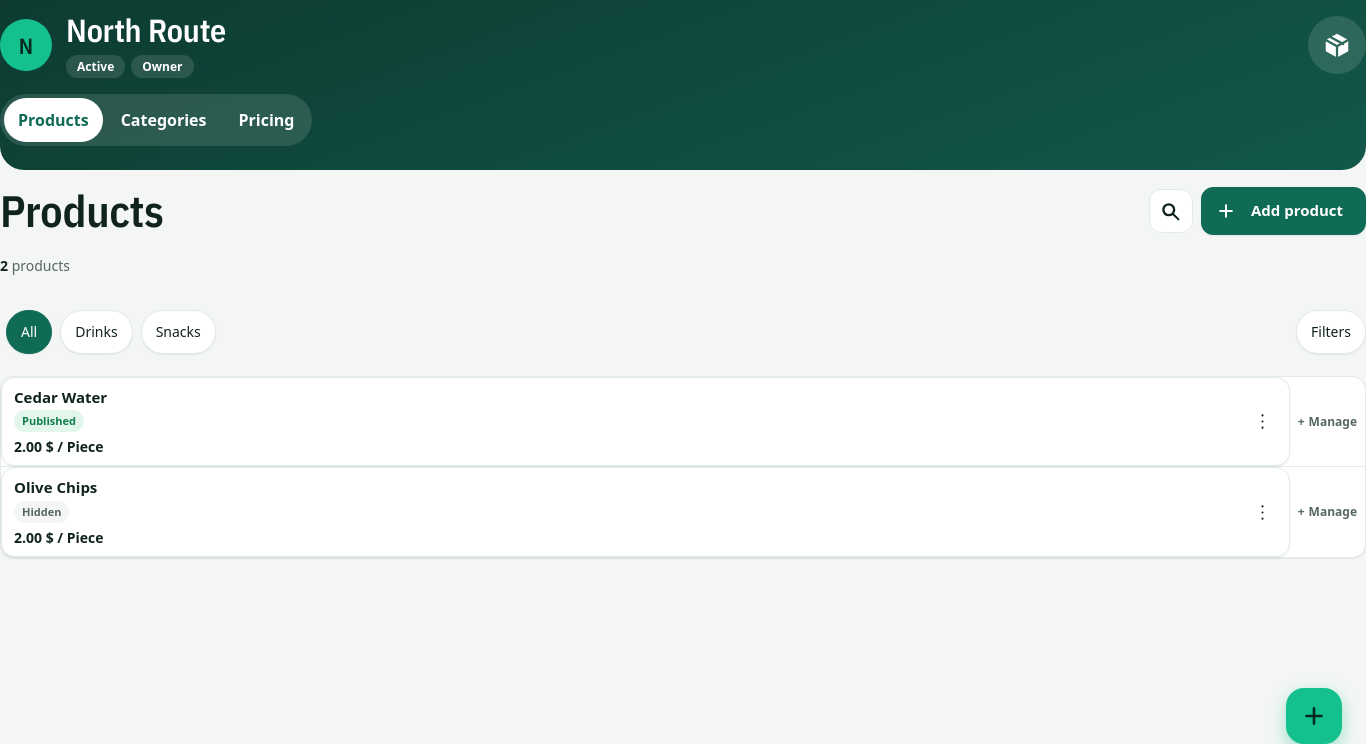
row tap and menu Edit open the chosen product's pane and Back returns focus
Expected: the text "Cedar Water" is shown, [14,387,107,407]
Click the button "Olive Chips Hidden 2.00 $ / Piece". click: (56,487)
box: [2,468,1241,556]
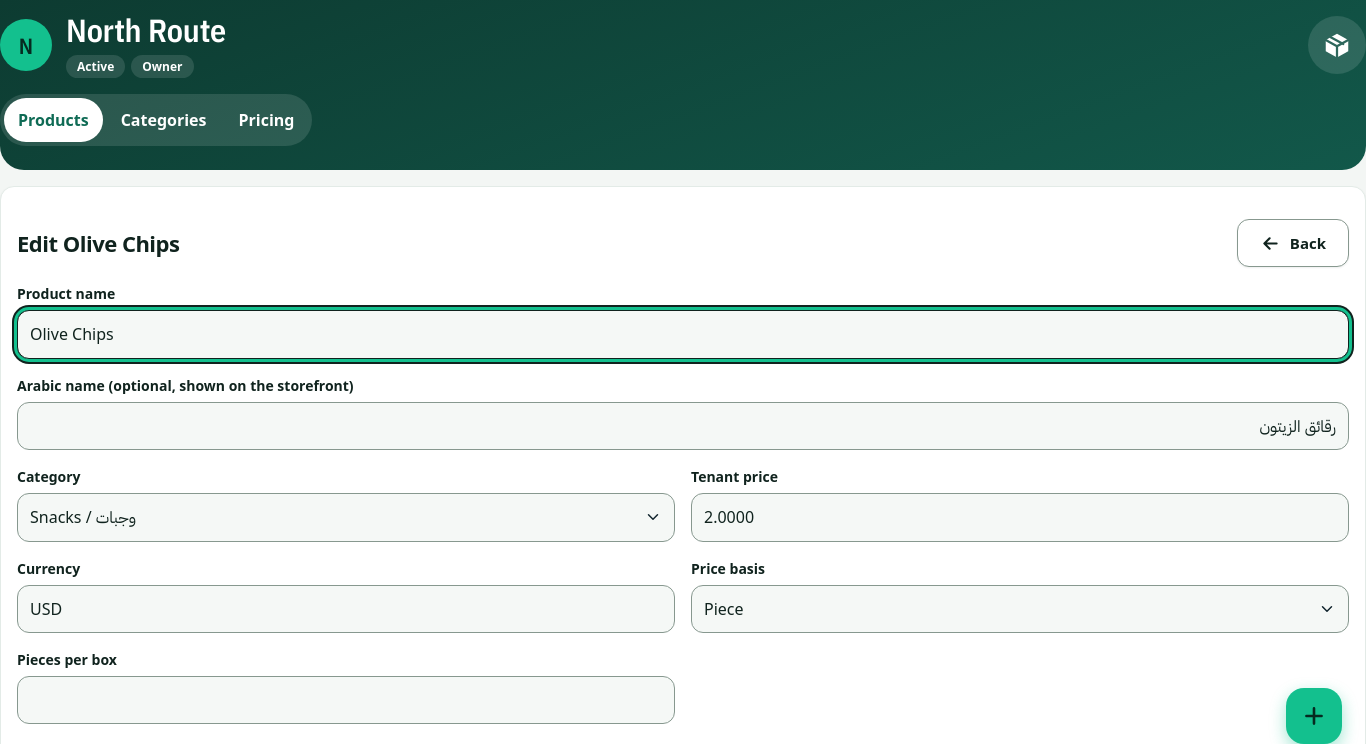
Expected: the field labelled "Product name" holds "Olive Chips", [17,310,1349,359]
Click the button "Back". click: (1293,243)
box: [1237,219,1349,267]
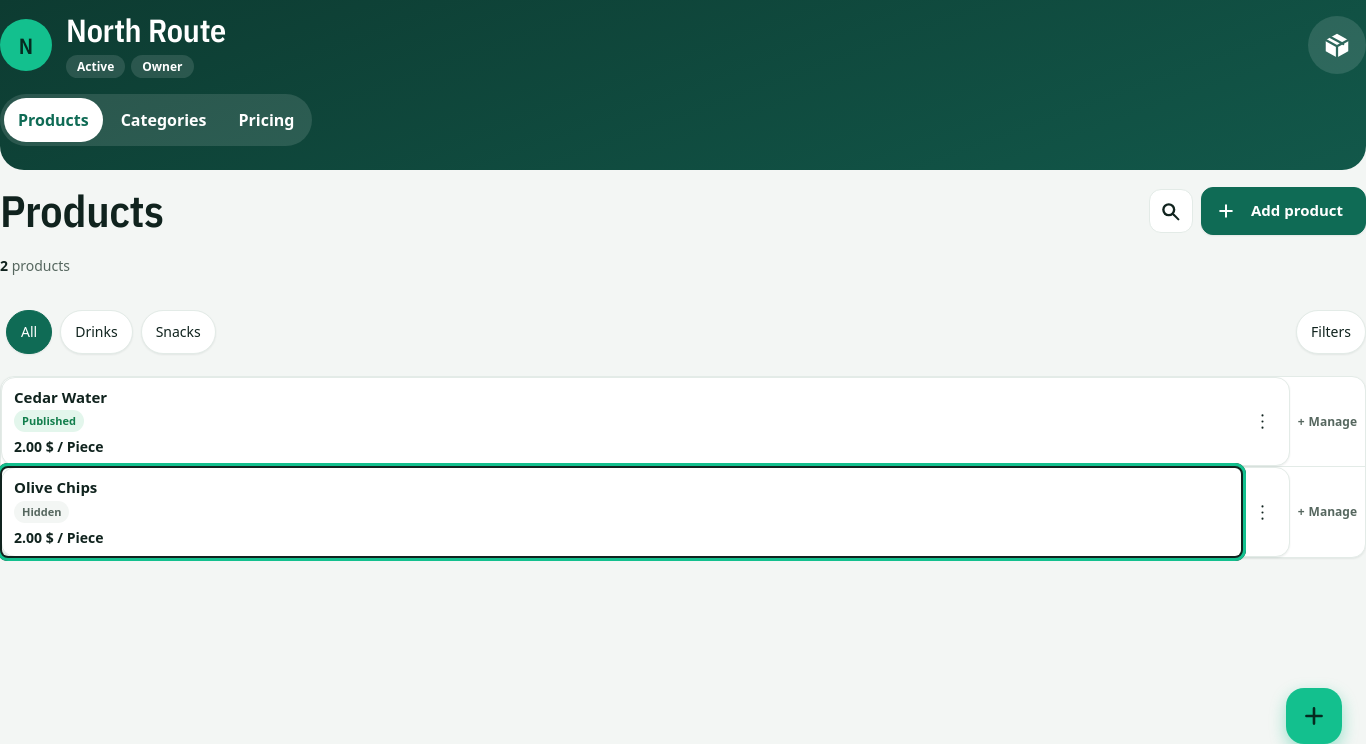
Click the button named "More actions for Cedar Water". click: (1263,422)
box: [1241,400,1285,444]
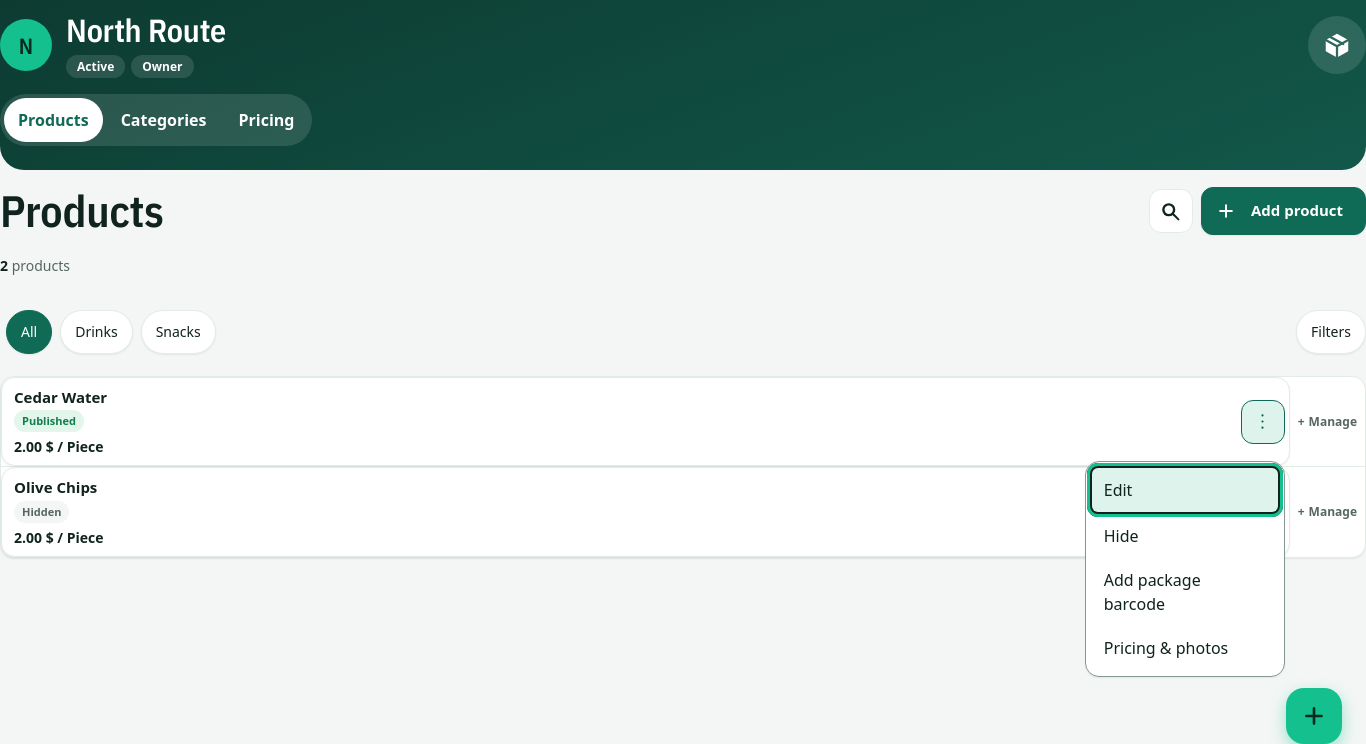
Click the button "Edit". click: (1185,490)
box: [1092,468,1278,512]
(page scrolled)
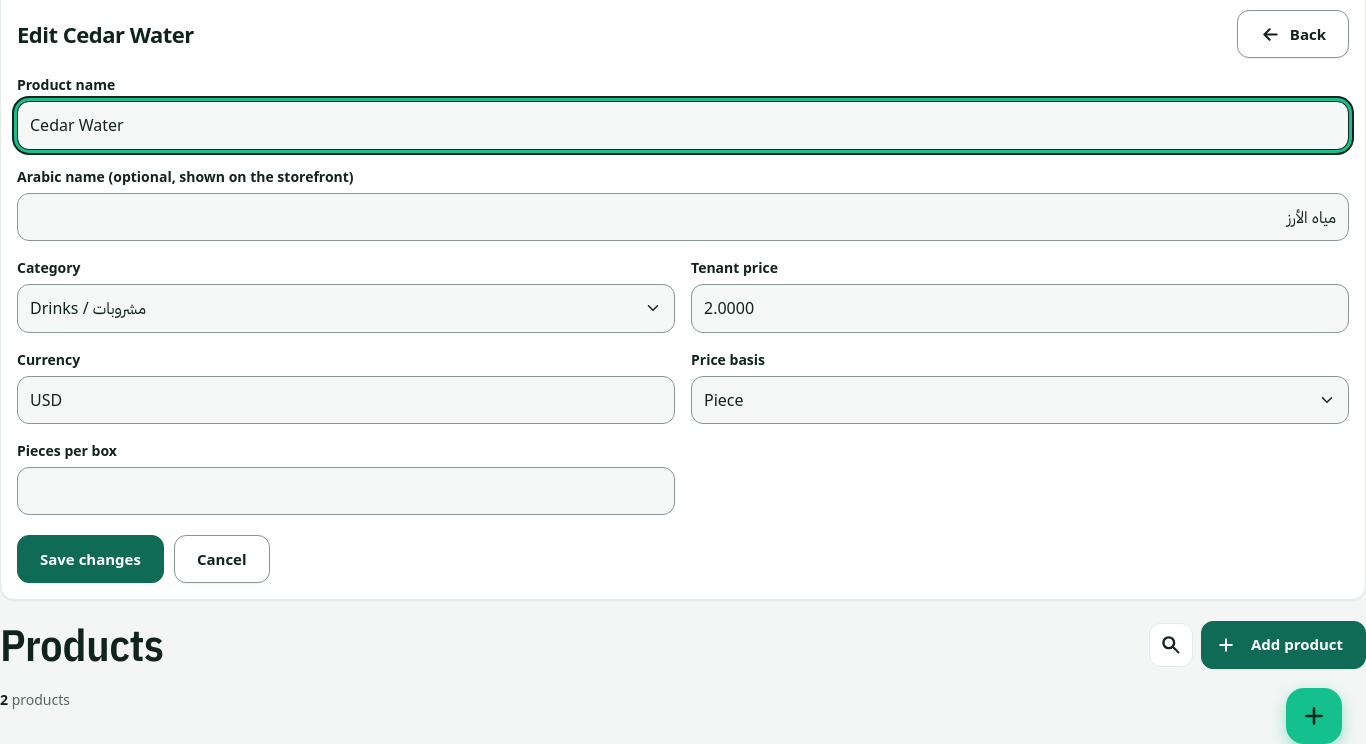
Expected: the form "Edit Cedar Water" is shown
